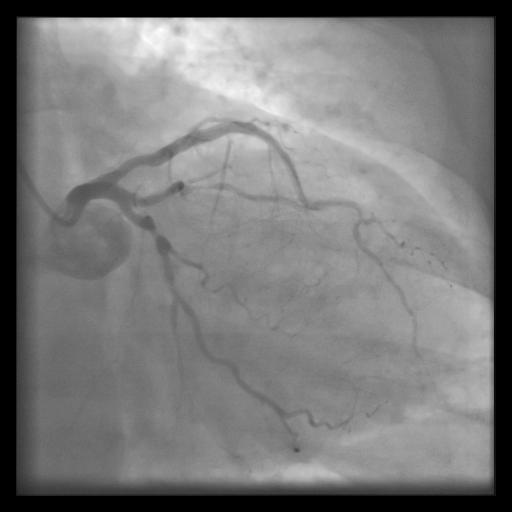Stenosis: (144, 218, 169, 248)
